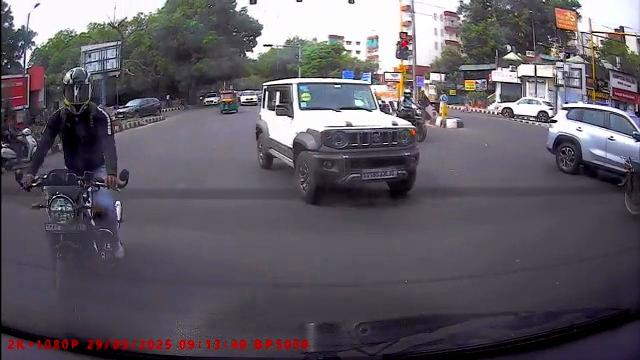motorcycle_with_helmet: (3, 66, 131, 322)
